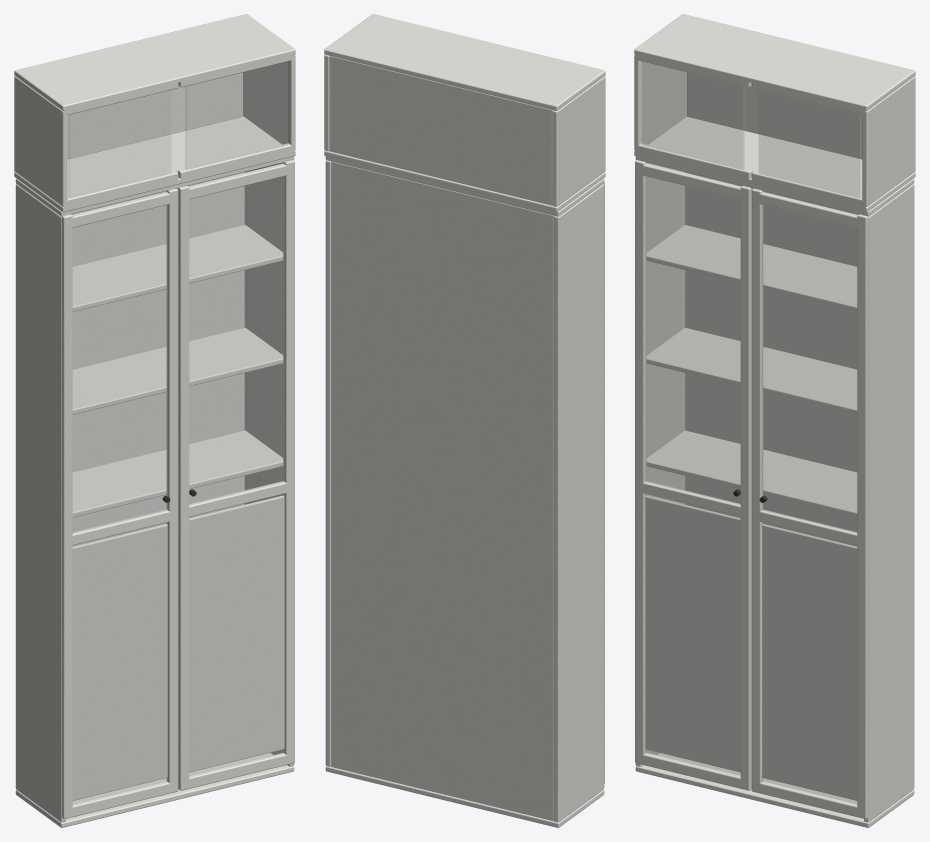
The model's file is billy-oxberg-tall-mobile.glb.
The picture shows the model from 3 angles, left to right: view 1: azimuth 30°, elevation 25°; view 2: azimuth 150°, elevation 25°; view 3: azimuth 330°, elevation 25°; orthographic projection.
Parts seen in each view (by area): view 1: BILLY / OXBERG Bookcase with doors and top unit; view 2: BILLY / OXBERG Bookcase with doors and top unit; view 3: BILLY / OXBERG Bookcase with doors and top unit.
Part boxes in pixels (x1=…): BILLY / OXBERG Bookcase with doors and top unit: x1=14, y1=14, x2=295, y2=827; BILLY / OXBERG Bookcase with doors and top unit: x1=324, y1=14, x2=605, y2=827; BILLY / OXBERG Bookcase with doors and top unit: x1=634, y1=14, x2=915, y2=827.
Bounding box in the file's own units: 0.8 × 2.37 × 0.3.
Materials: 3 (2 with a texture image).
